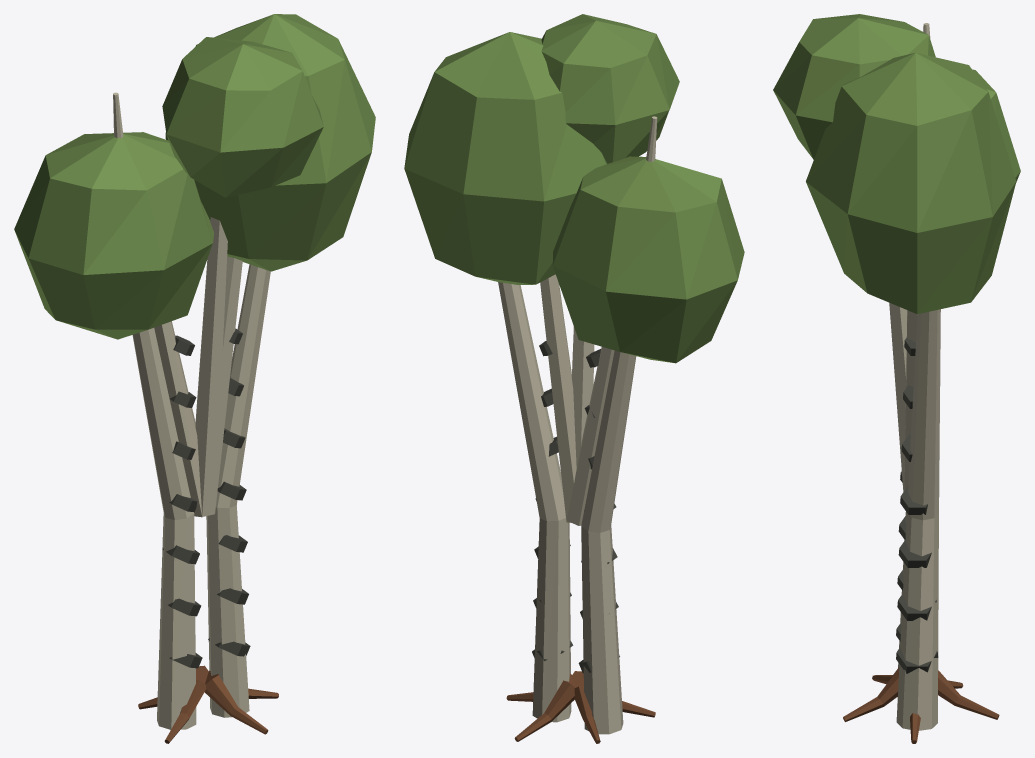
Rendered from Plant_Common_WhiteBarkBirch_001.glb.
The picture shows the model from 3 angles, left to right: view 1: azimuth 30°, elevation 25°; view 2: azimuth 150°, elevation 25°; view 3: azimuth 270°, elevation 25°; orthographic projection. The views are drawn at different scales.
Parts seen in each view (by area): view 1: Plant_Common_WhiteBarkBirch_001; view 2: Plant_Common_WhiteBarkBirch_001; view 3: Plant_Common_WhiteBarkBirch_001.
Boxes of the visible parts, x1,y1,x2,y2 form: Plant_Common_WhiteBarkBirch_001: (14, 14, 375, 743); Plant_Common_WhiteBarkBirch_001: (404, 14, 744, 743); Plant_Common_WhiteBarkBirch_001: (773, 14, 1020, 743).
Size of the model in its own units: 3.47 by 6.71 by 2.16.
